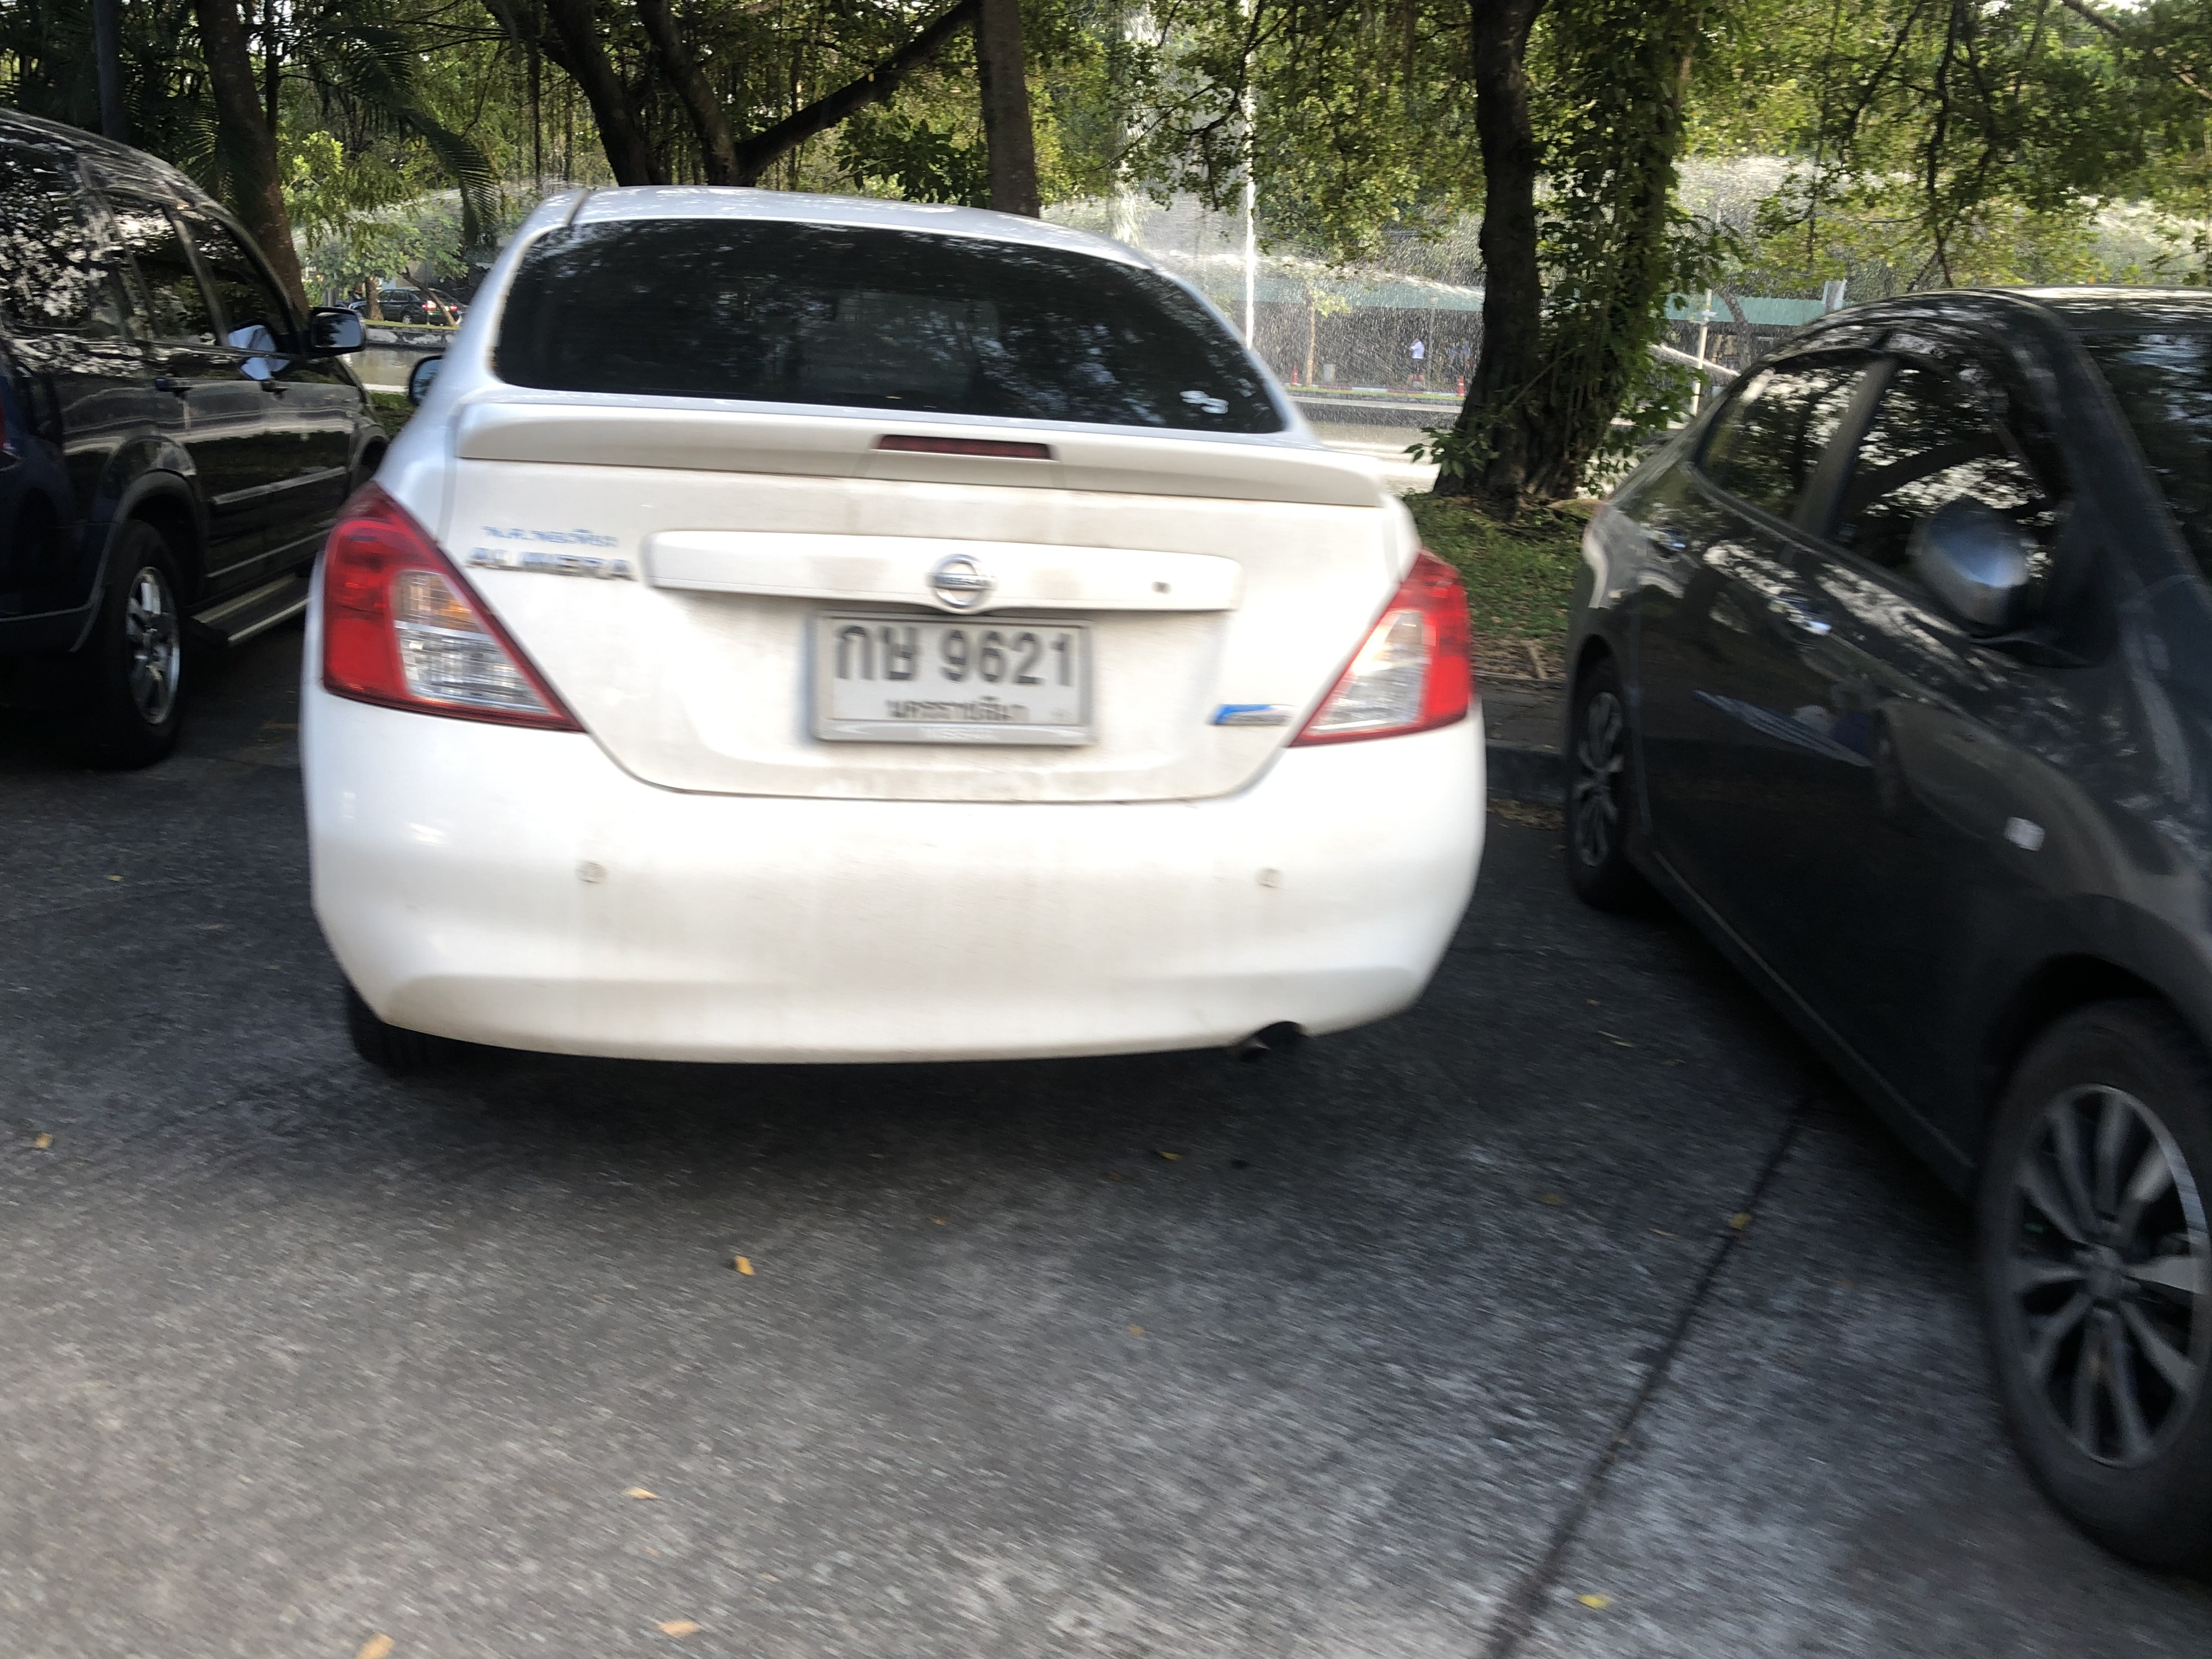in: (820, 622, 1087, 728)
out: (803, 605, 1106, 755)
